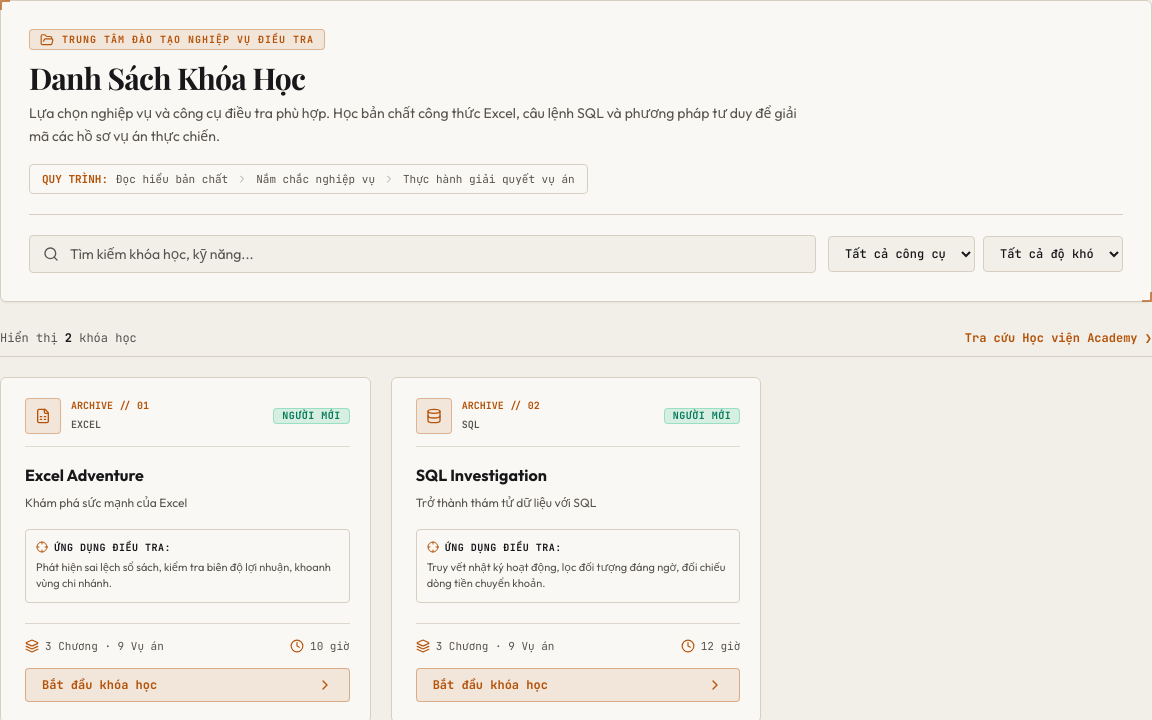
it: CoursesPage Component Tests › hiển thị EmptyState khi tìm kiếm không có kết quả và reset khi bấm nút
The width and height of the screenshot is (1152, 720).
expect the heading "Excel Adventure" is shown: met, box [25,465,144,485]
Nhập từ khóa không tồn tại
Type "NonExistentKeyword" into the field with placeholder "Tìm kiếm khóa học, kỹ năng..." at point(422, 254), box [29,235,816,273]
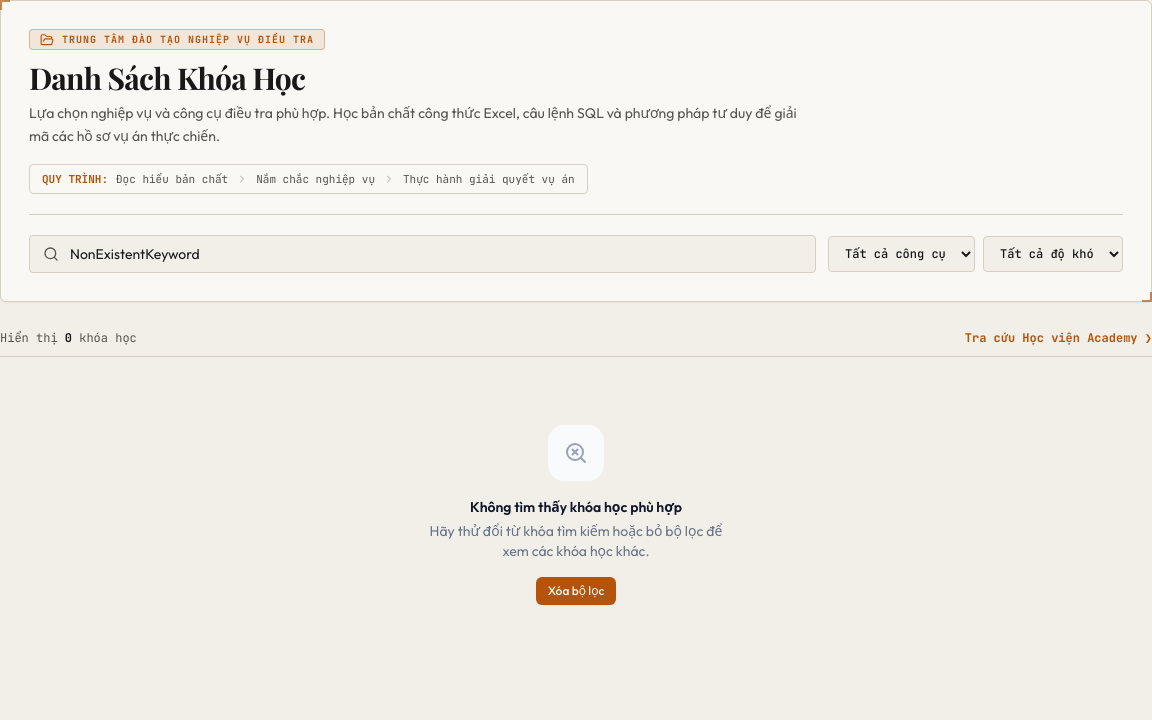
expect the text "Không tìm thấy khóa học phù hợp" is shown: met, box [470,497,682,517]
Bấm nút xóa bộ lọc
Click the button "Xóa bộ lọc" at point(576, 591), box [536,577,616,605]
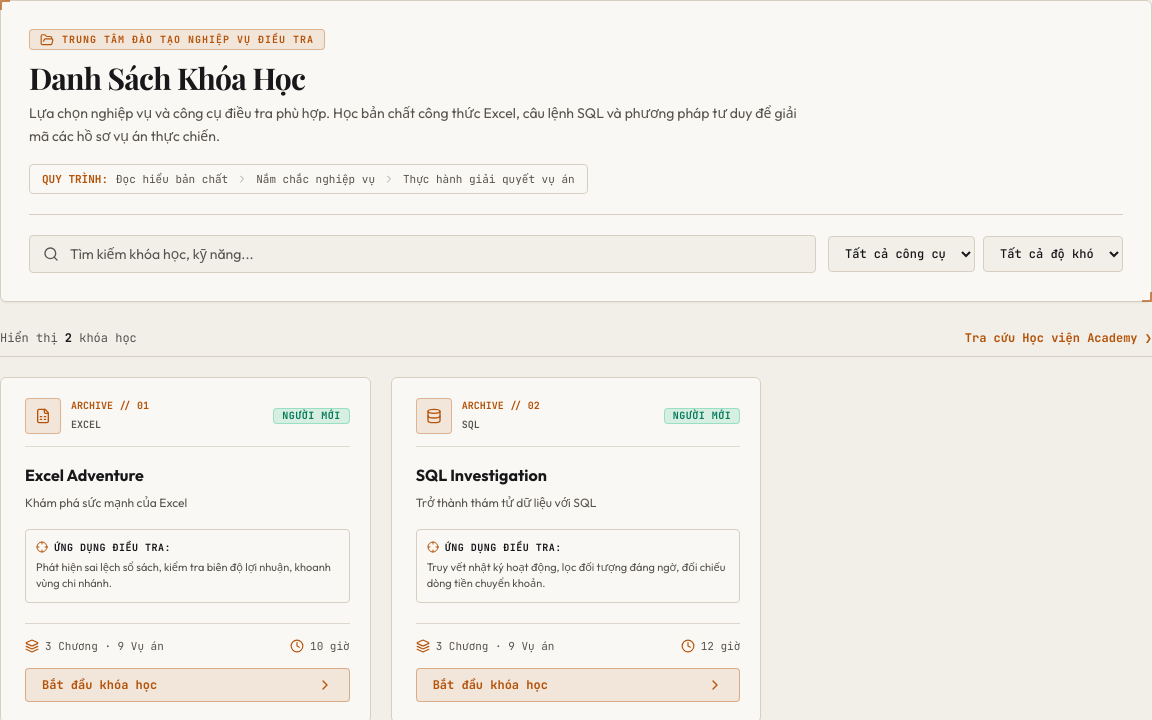
expect the heading "Excel Adventure" is shown: met, box [25,465,144,485]
expect the heading "SQL Investigation" is shown: met, box [416,465,547,485]
